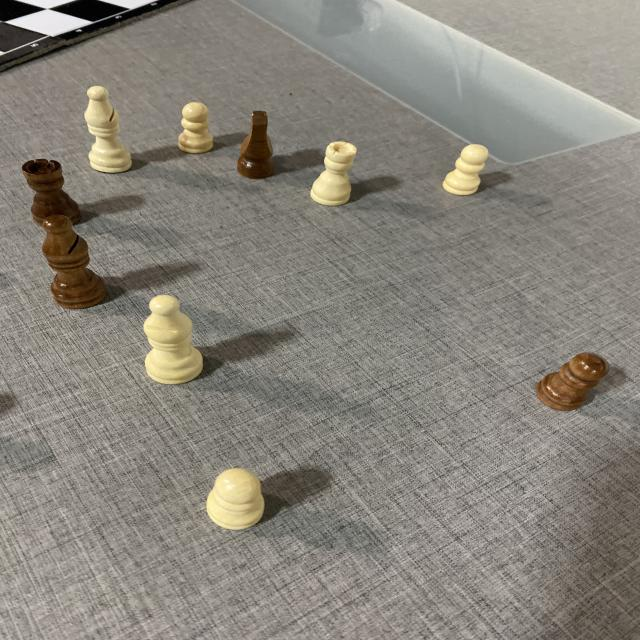Black-Bishop: (40, 214, 110, 310)
Black-Knight: (236, 109, 276, 180)
Black-Pawn: (534, 351, 612, 411)
Black-Rook: (21, 158, 83, 228)
White-Bishop: (143, 294, 205, 387), (84, 85, 134, 174)
White-Pawn: (207, 466, 268, 530), (442, 144, 490, 196), (177, 102, 216, 154)
White-Rook: (309, 141, 358, 206)
